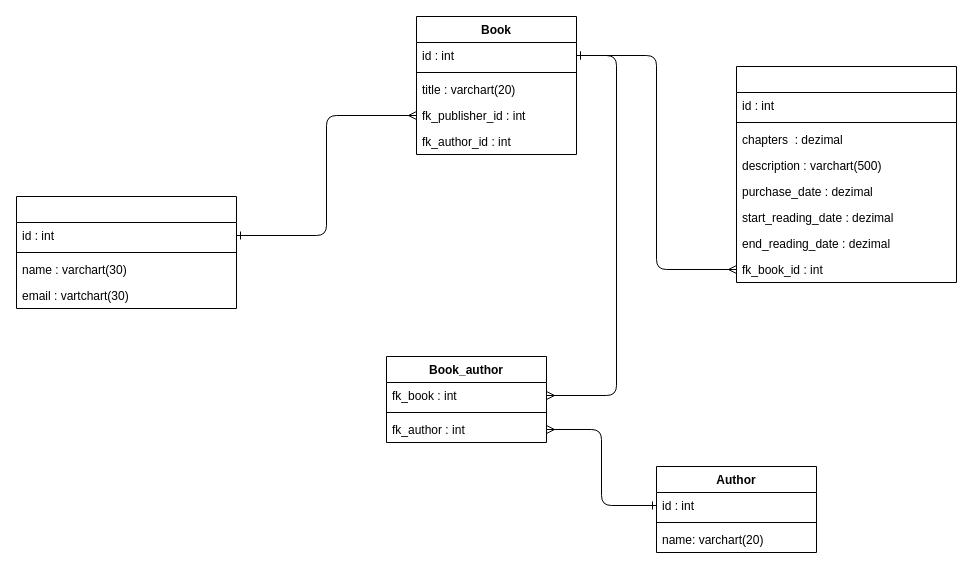
The diagram is 973 pixels wide and 569 high, and some of its shapes have lost their labels. The shapes that lost their labels are listed below. From the top down, each one's box as (x1, y1, x2, y2) in pixels, then its label:
(736, 66, 956, 282): Book_details
(16, 196, 236, 308): Publisher
